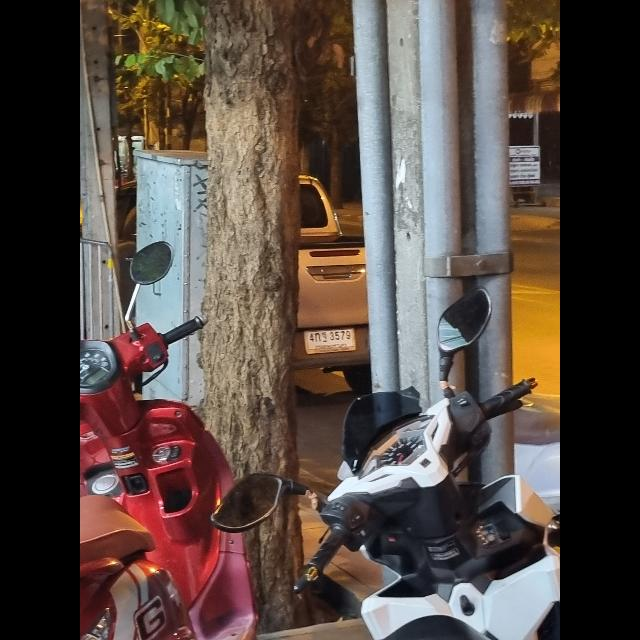licenseplate: (304, 327, 356, 353)
